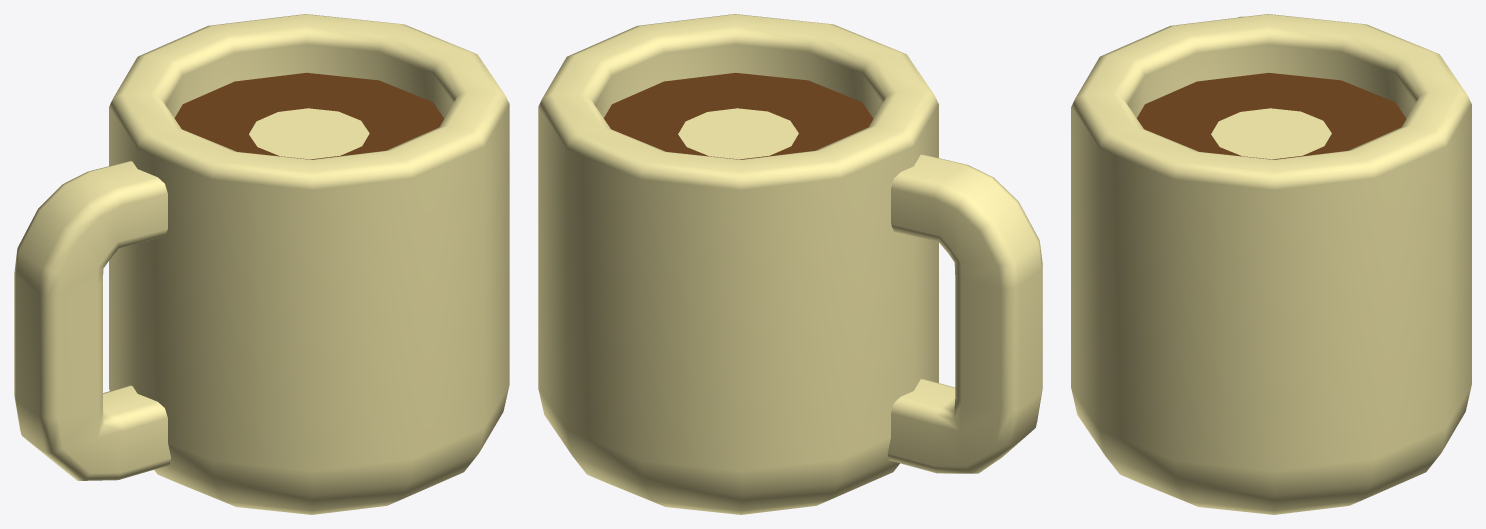
Rendered from SM_Coffee.fbx.
3 views of the same model, side by side, from view 1: azimuth 30°, elevation 25°; view 2: azimuth 150°, elevation 25°; view 3: azimuth 270°, elevation 25° (orthographic).
Visible parts, largest first — view 1: SM_Coffee; view 2: SM_Coffee; view 3: SM_Coffee.
Part boxes in pixels (bbox=[...]): SM_Coffee: bbox=[14, 14, 509, 514]; SM_Coffee: bbox=[538, 14, 1042, 514]; SM_Coffee: bbox=[1071, 14, 1471, 514].
Bounding box in the file's own units: 29.06 × 21.89 × 21.88.
